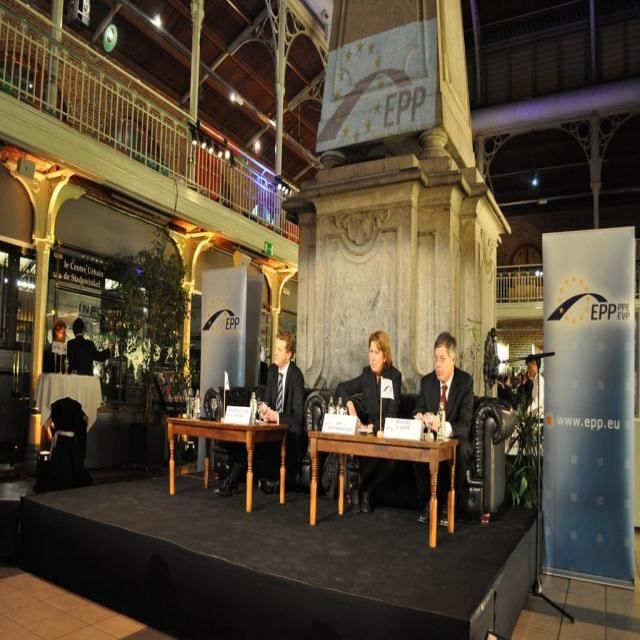table: (306, 422, 470, 535), (167, 418, 285, 511)
